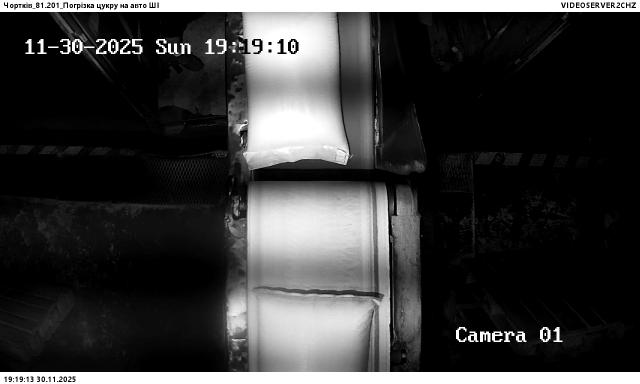bag: (244, 13, 350, 171), (253, 289, 383, 372)
